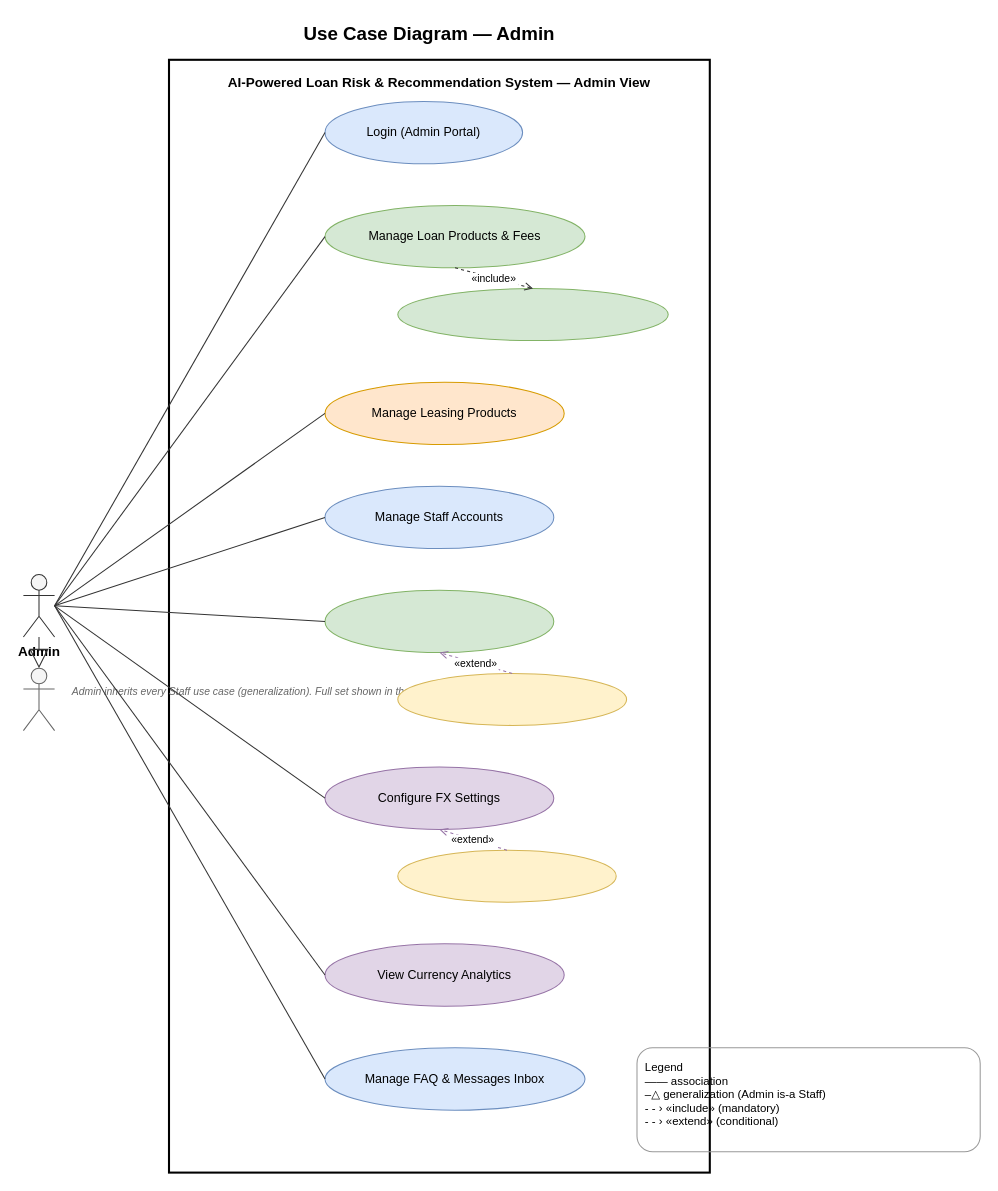
This 998x1191 diagram has some shape labels left out. Here are the shapes that lost their labels. From the top down, the centre of each, then its label:
the point at 532,314: Configure Product Fee Structure
the point at 439,621: View Portfolio Dashboard
the point at 38,699: Staff
the point at 512,698: Export FX Report (CSV)
the point at 506,875: Refresh Live FX Feed (Manual)
